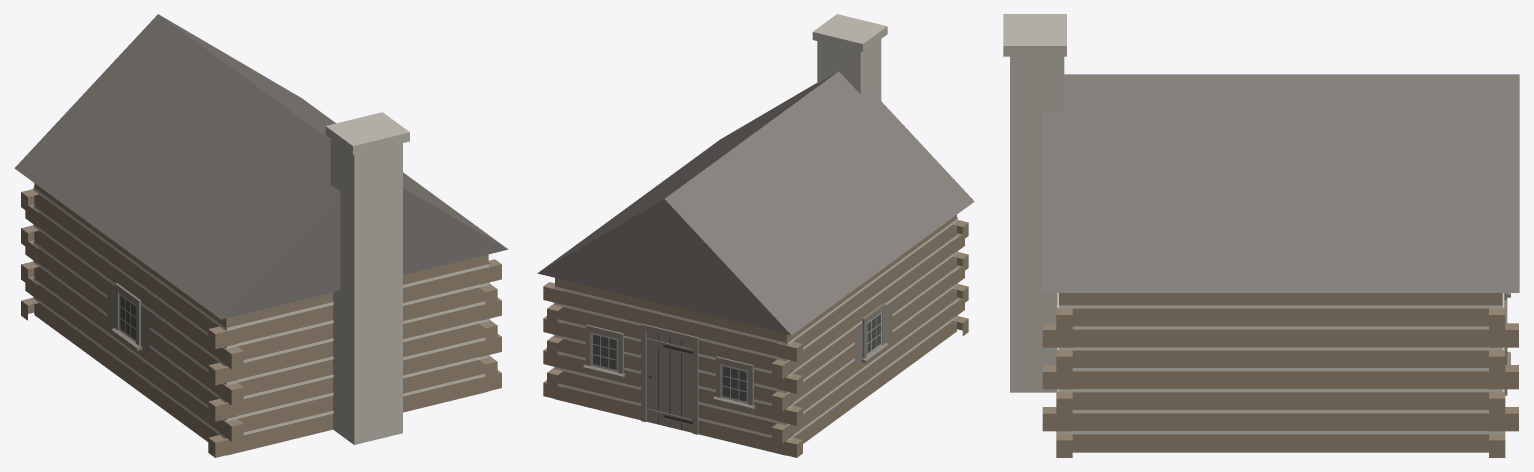
Rendered from recon_1835_blk_randolph_franklin_d1_06__inferred_1835.glb.
The picture shows the model from 3 angles, left to right: view 1: azimuth 30°, elevation 25°; view 2: azimuth 150°, elevation 25°; view 3: azimuth 270°, elevation 25°; orthographic projection. The views are drawn at different scales.
Visible parts, largest first — view 1: recon_1835_blk_randolph_franklin_d1_06__inferred_1835; view 2: recon_1835_blk_randolph_franklin_d1_06__inferred_1835; view 3: recon_1835_blk_randolph_franklin_d1_06__inferred_1835.
Part boxes in pixels (<box>): recon_1835_blk_randolph_franklin_d1_06__inferred_1835: <box>14,14,508,457</box>; recon_1835_blk_randolph_franklin_d1_06__inferred_1835: <box>537,14,974,457</box>; recon_1835_blk_randolph_franklin_d1_06__inferred_1835: <box>1003,14,1519,457</box>.
Size of the model in its own units: 5.65 by 5.67 by 7.61.
